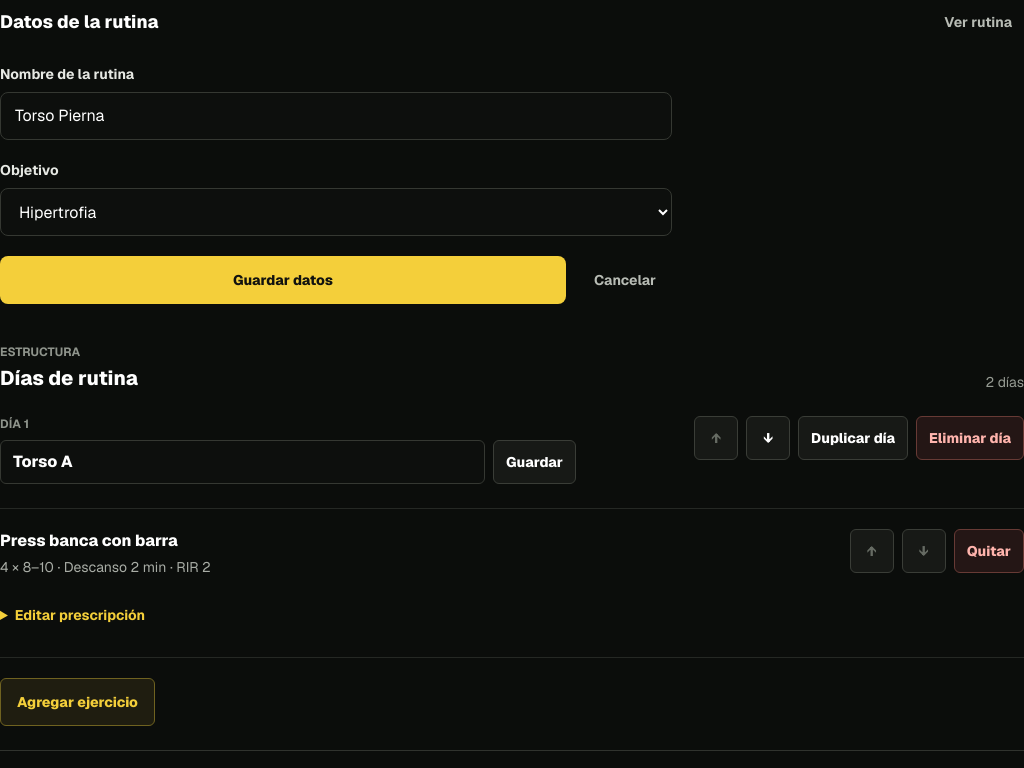
Test case: componentes de rutinas › ofrece editor, botones de reorder y selector reutilizado
Expected: the field named "Nombre del día" holds "Torso A", [0,440,485,484]
Expected: the button named "Subir Torso A" is disabled, [694,416,738,460]
Click the button "Agregar ejercicio" at (78, 702), box [0,678,155,726]
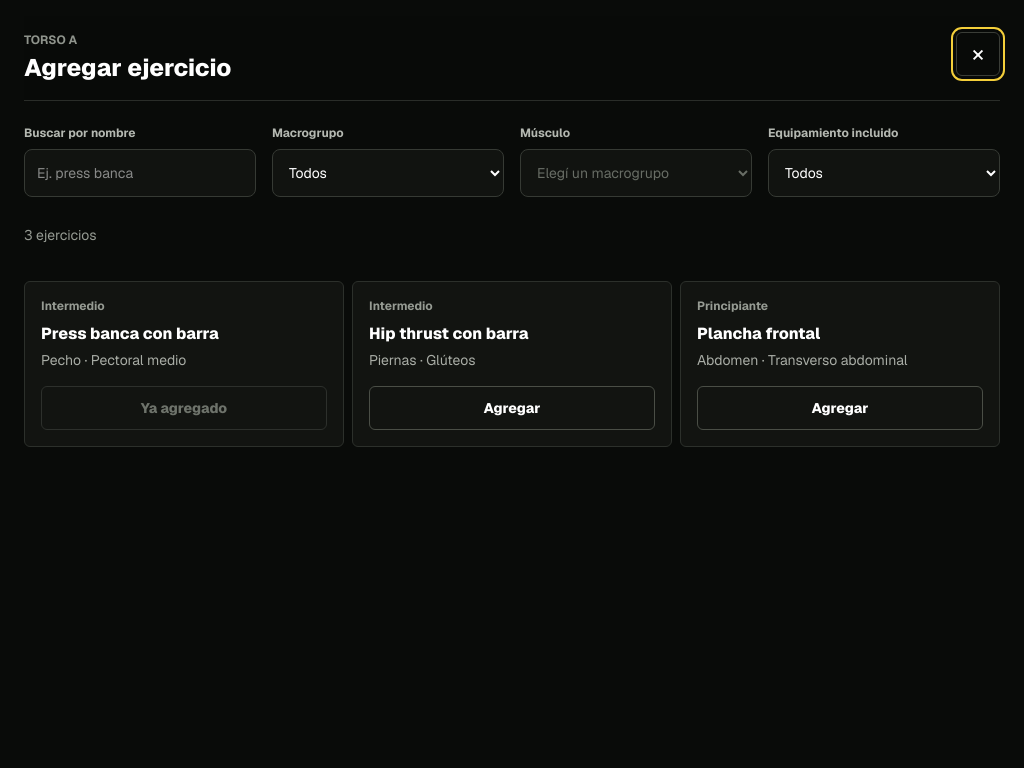
Expected: the dialog "Agregar ejercicio" is shown
Select "Piernas" in the dropdown labelled "Macrogrupo" at (388, 173), box [272,149,504,197]
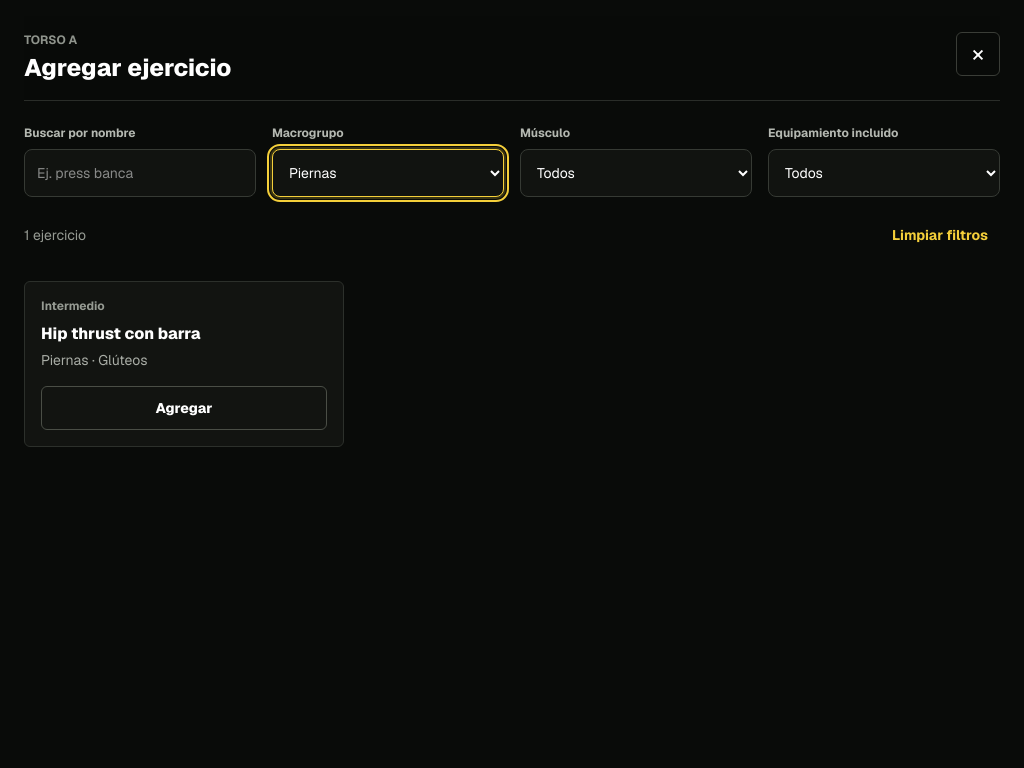
Expected: the heading "Hip thrust con barra" is shown, [41,323,201,344]
Expected: the heading "Plancha frontal" is gone
